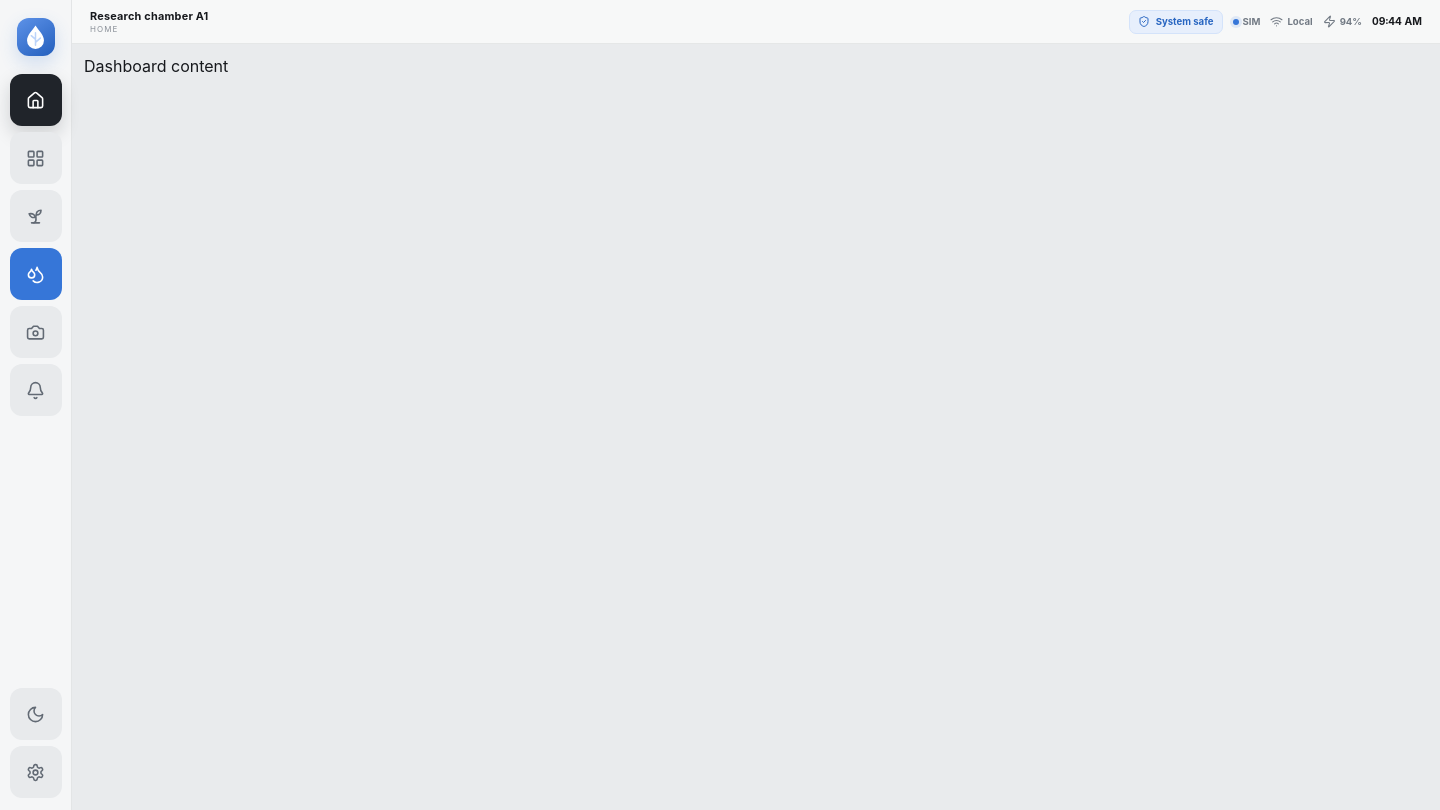
Scenario: AeroOS production shell › routes misting through protected authorization
Click the button named "Open mist controls": click(36, 274) [10, 248, 62, 300]
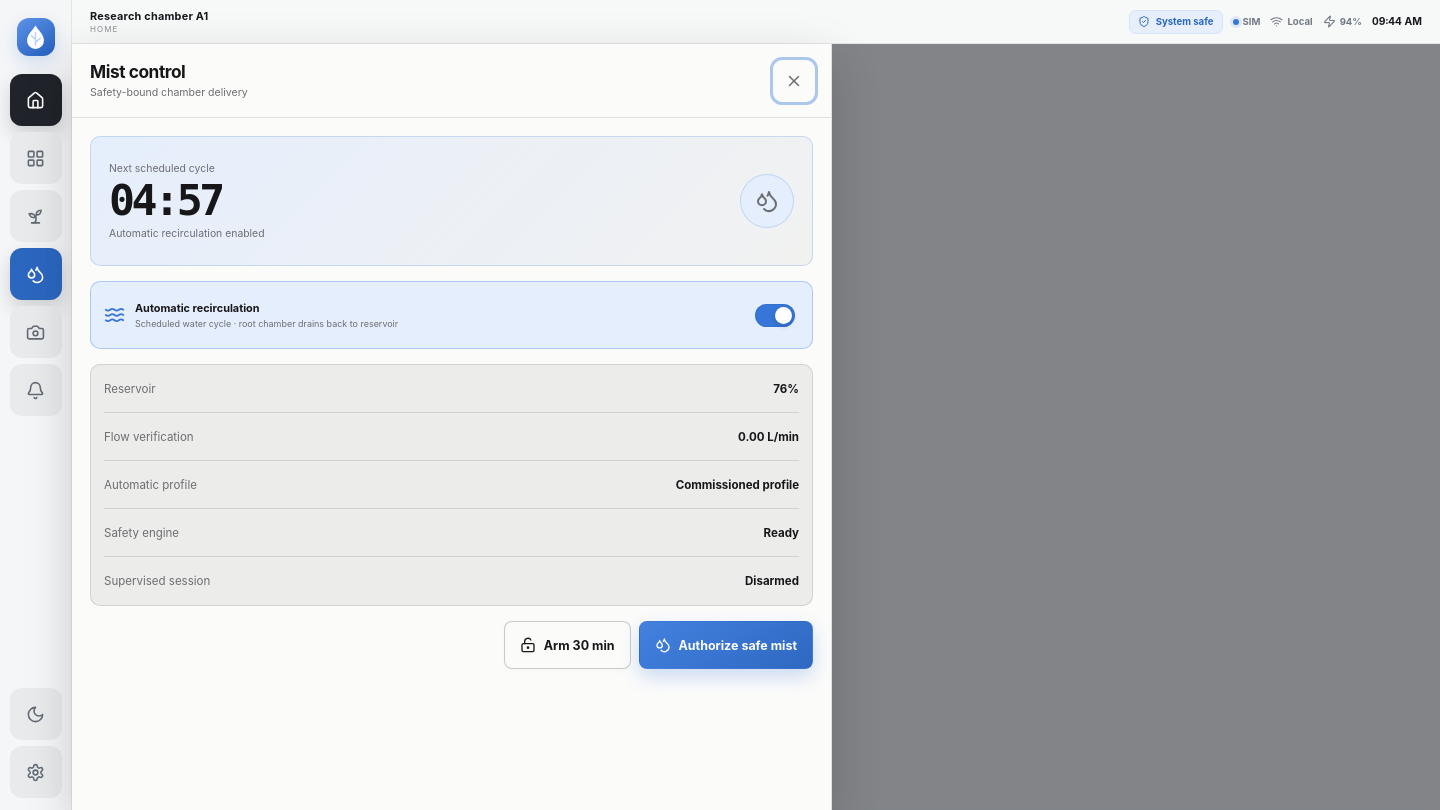
Click the button "Authorize safe mist": click(726, 645) [638, 621, 813, 669]
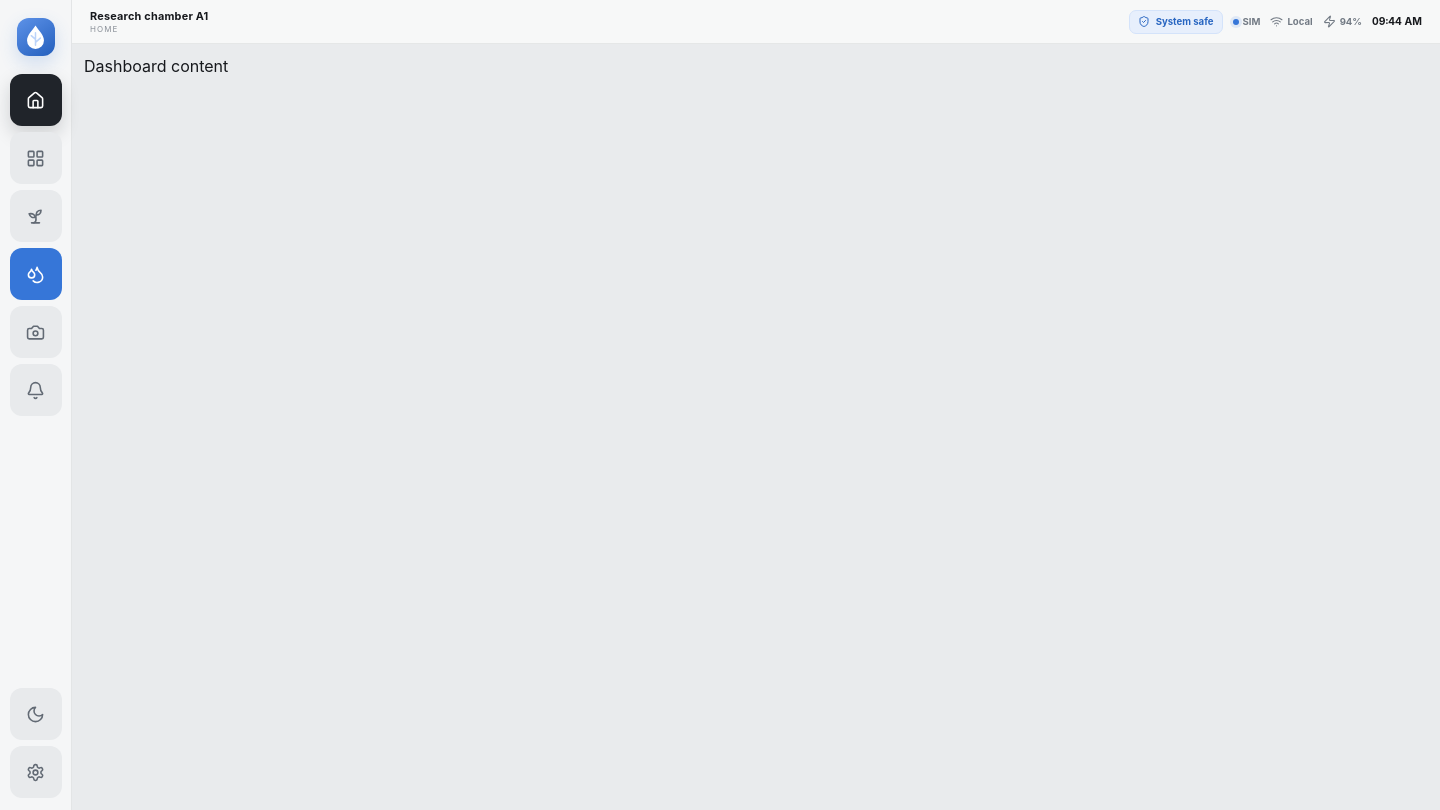
Result: the heading "Mist control" is gone
